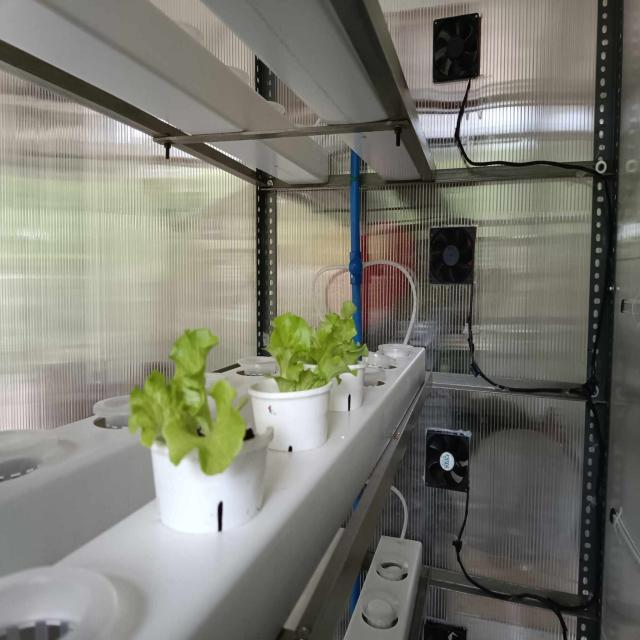Lettuce-Not-Ready-to-Harvest: (128, 323, 250, 471), (268, 300, 349, 392)
